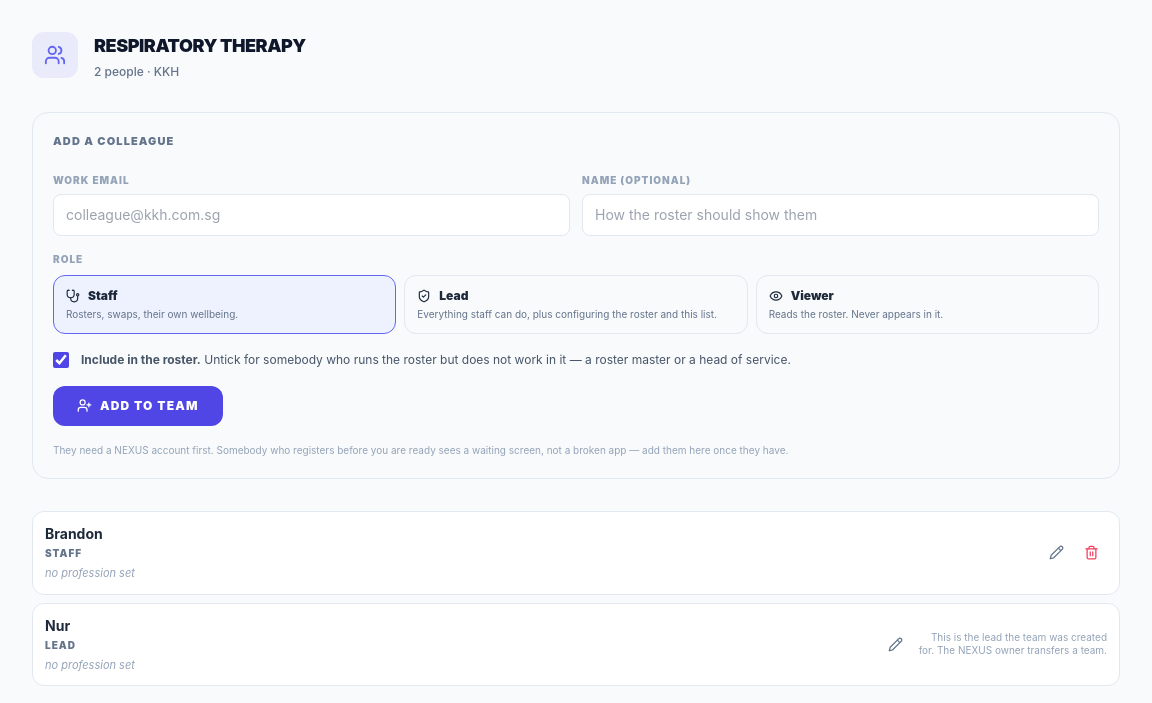
it: adding a colleague › shows a server refusal as a sentence instead of reporting success
Type "a@kkh.com.sg" into the field with placeholder "colleague@kkh.com.sg" at (312, 214), box [53,194,570,236]
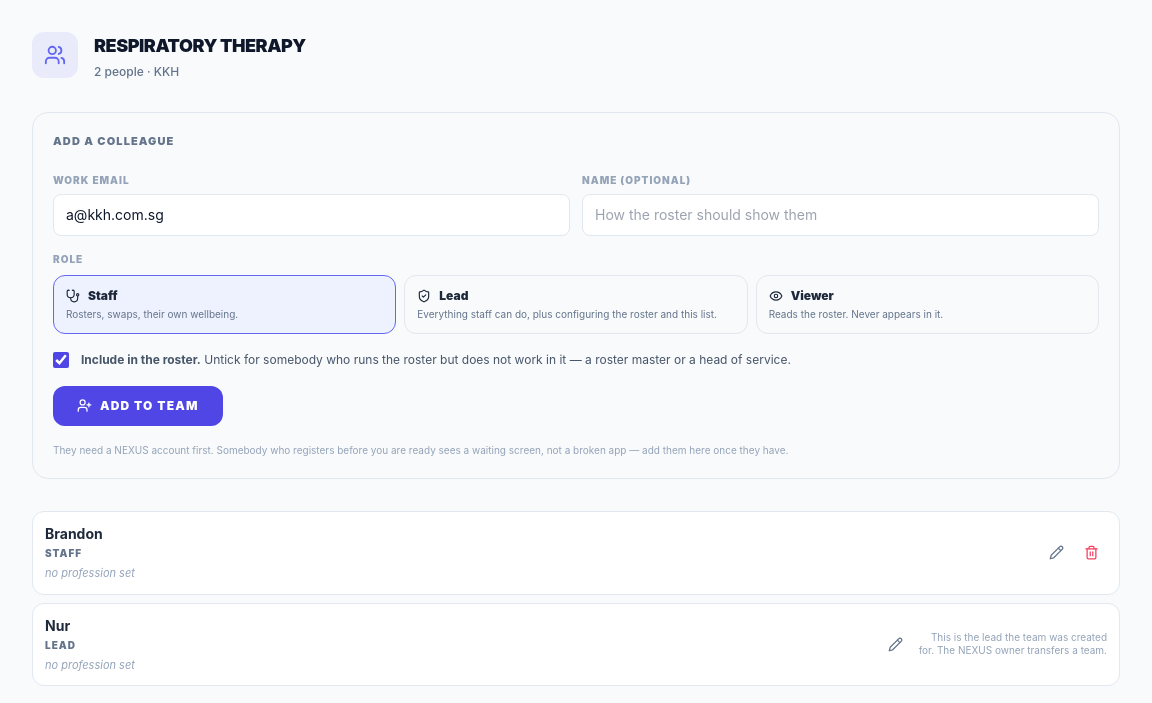
Click the button "Add to team" at (138, 406), box [53,386,223,426]
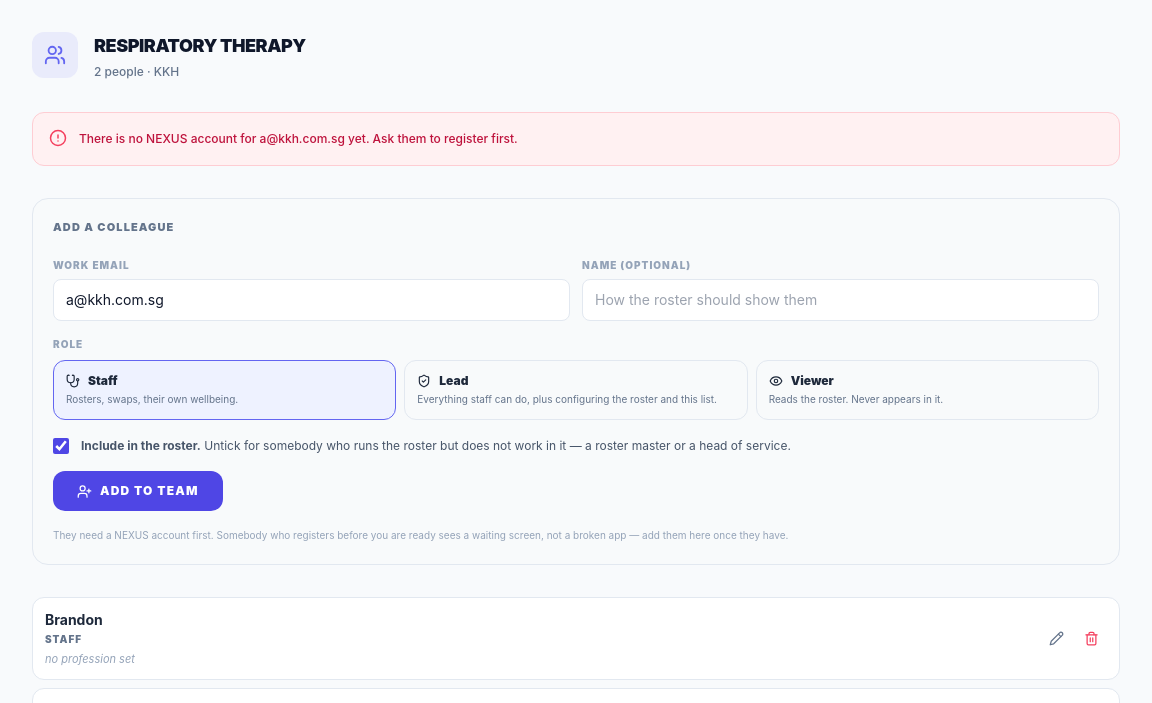
Result: the message shows "register first" at [79,131,518,146]
